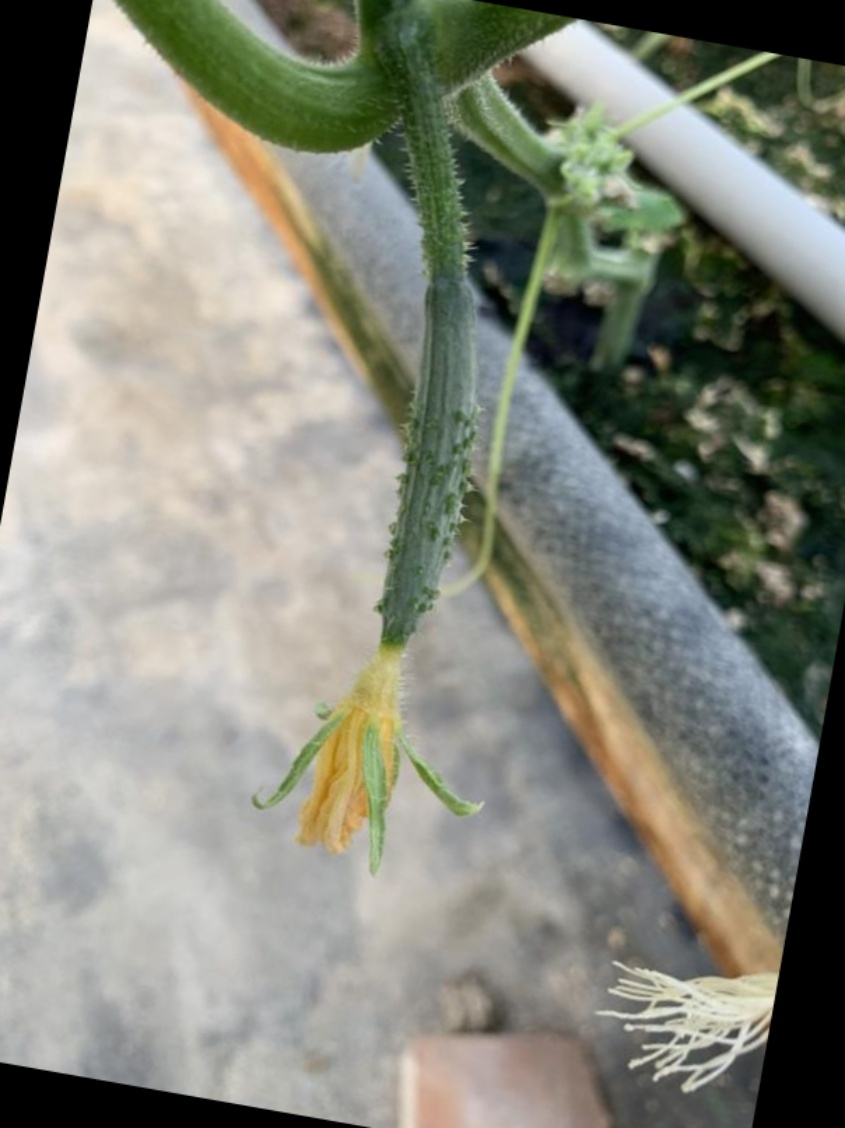bear: (244, 239, 523, 892)
